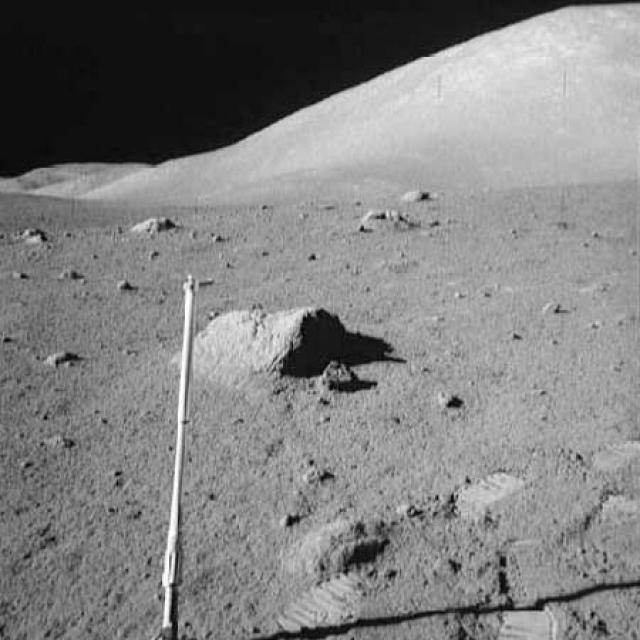artifact: (160, 264, 200, 638)
rock: (180, 302, 354, 391), (120, 210, 177, 237), (38, 345, 83, 369), (352, 203, 411, 220), (14, 225, 46, 248), (54, 264, 78, 282)
